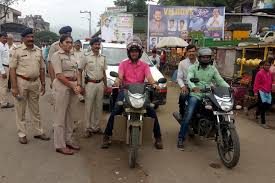helmet: (197, 46, 216, 72), (120, 42, 145, 60)
